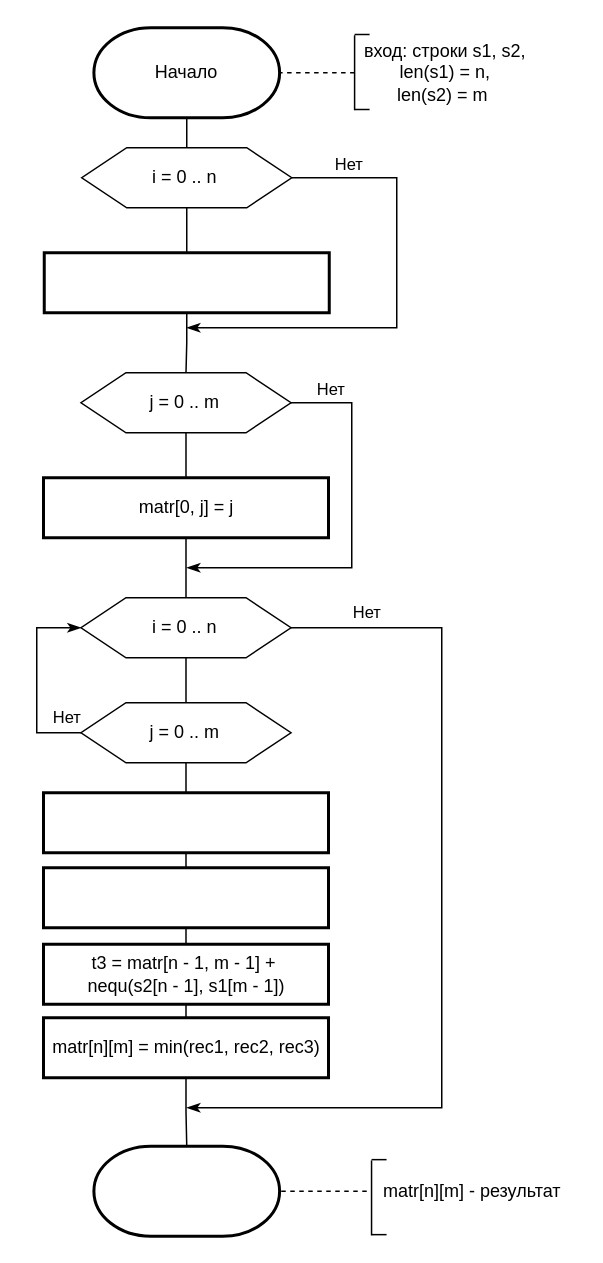
Image size: 603x1263. Some labels were removed from this diagram. The centre of each missing label's shape, as x and y in pixels:
"matr[i, 0] = i" goes at (186,282).
"t1 = matr[n, m - 1] + 1" goes at (185,822).
"t2 = matr[n - 1, m] + 1" goes at (185,897).
"Конец" goes at (186,1190).
